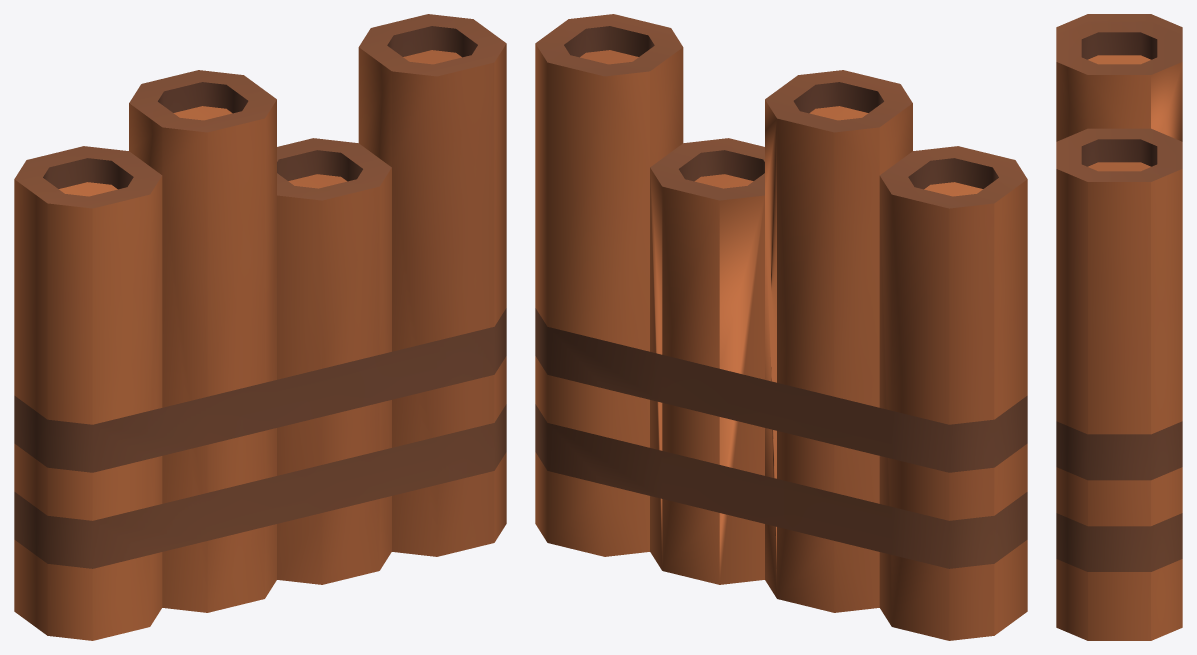
The model's file is poles.glb.
The picture shows the model from 3 angles, left to right: view 1: azimuth 30°, elevation 25°; view 2: azimuth 150°, elevation 25°; view 3: azimuth 270°, elevation 25°; orthographic projection. The views are drawn at different scales.
Parts seen in each view (by area): view 1: poles; view 2: poles; view 3: poles.
Boxes of the visible parts, x1,y1,x2,y2 form: poles: [14, 14, 506, 640]; poles: [535, 14, 1027, 640]; poles: [1056, 14, 1182, 640].
Size of the model in its own units: 1 by 1 by 0.25.
1 material, 1 textured.
